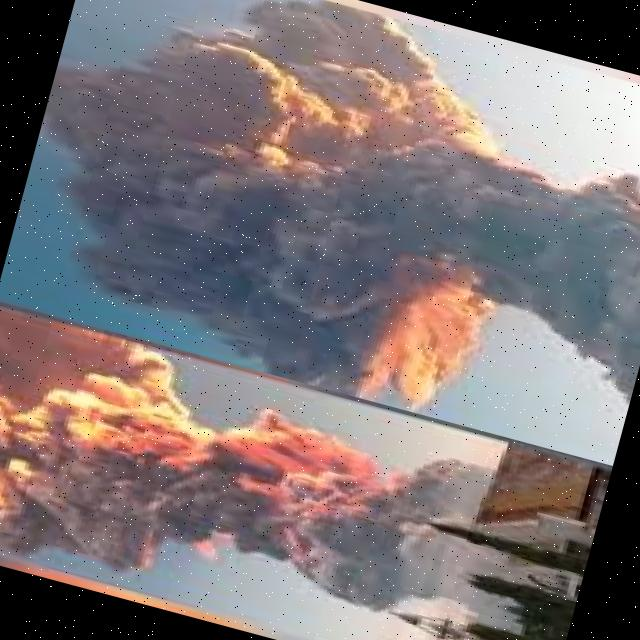explosion: (18, 0, 640, 453), (0, 324, 491, 640)
